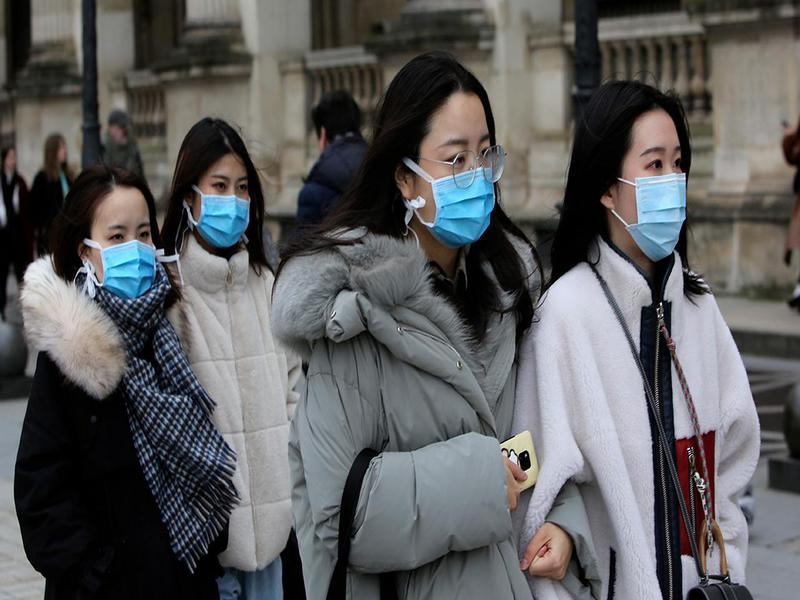with_mask: (379, 46, 507, 251), (574, 84, 694, 265), (61, 160, 160, 304), (174, 110, 257, 265)
